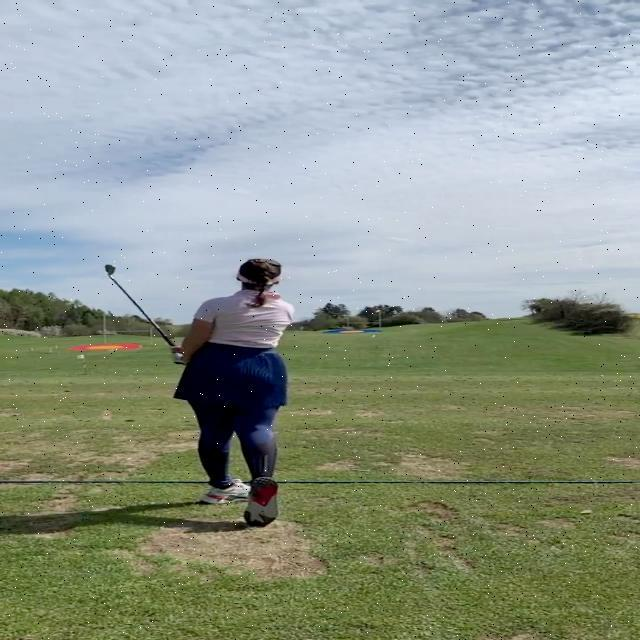ClubHandle: (104, 263, 176, 346)
ClubHead: (105, 264, 117, 275)
